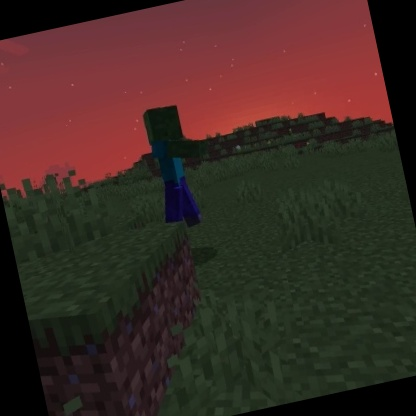zombie: (136, 97, 222, 235)
